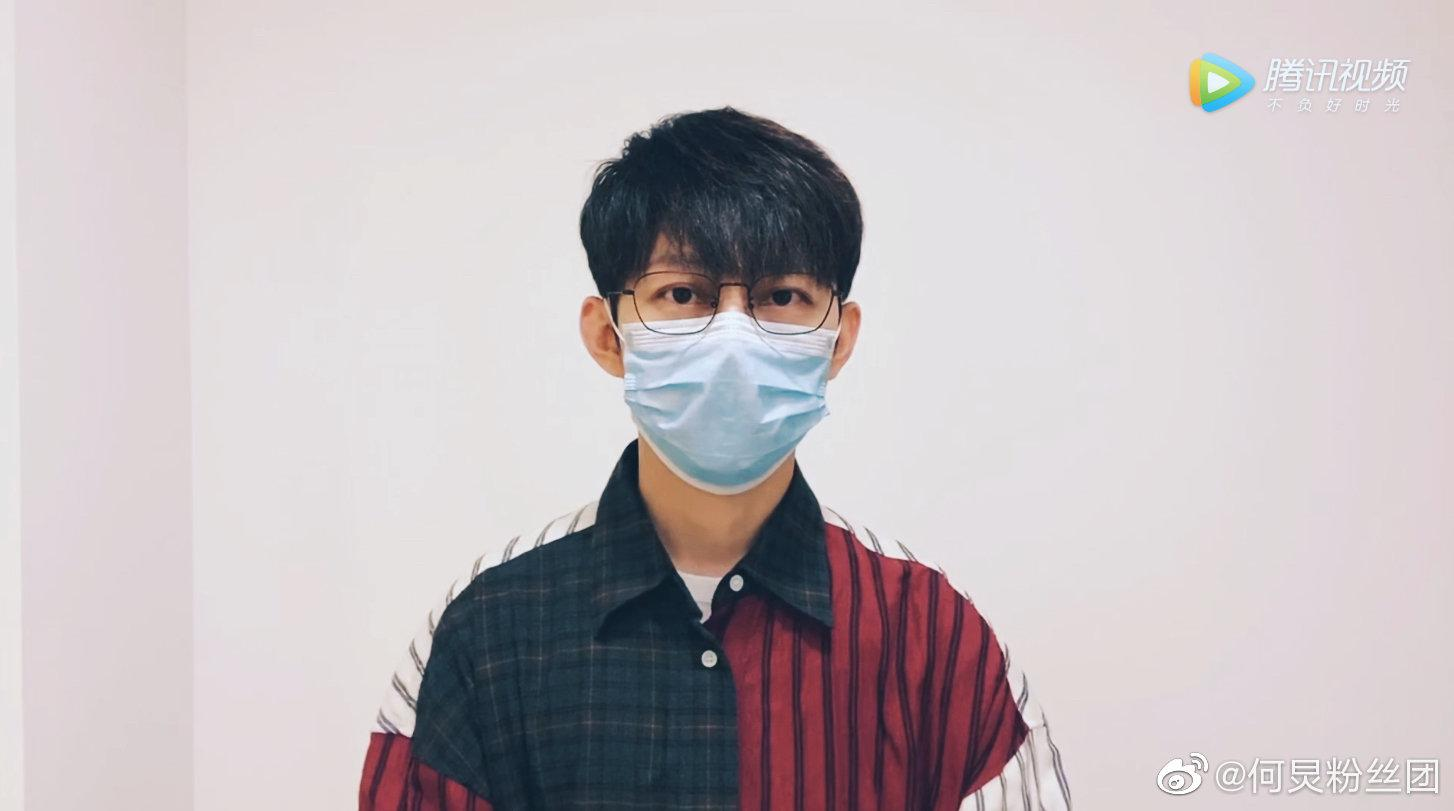OK: (621, 233, 844, 496)
